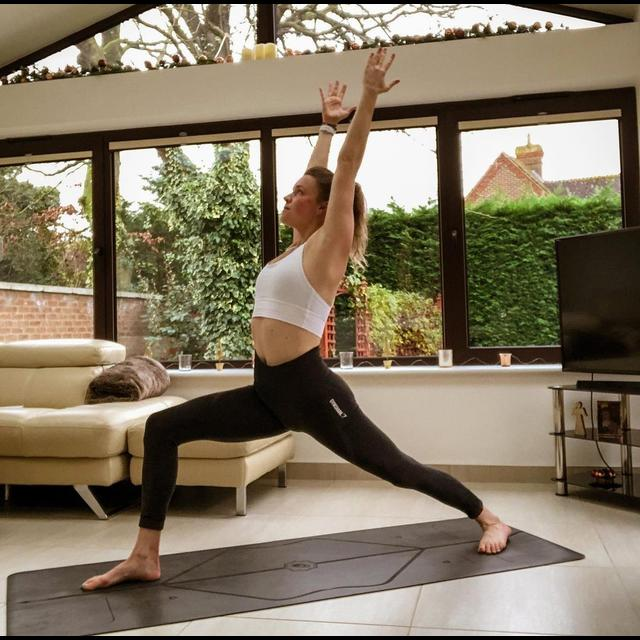Warrior_I: (75, 30, 529, 595)
